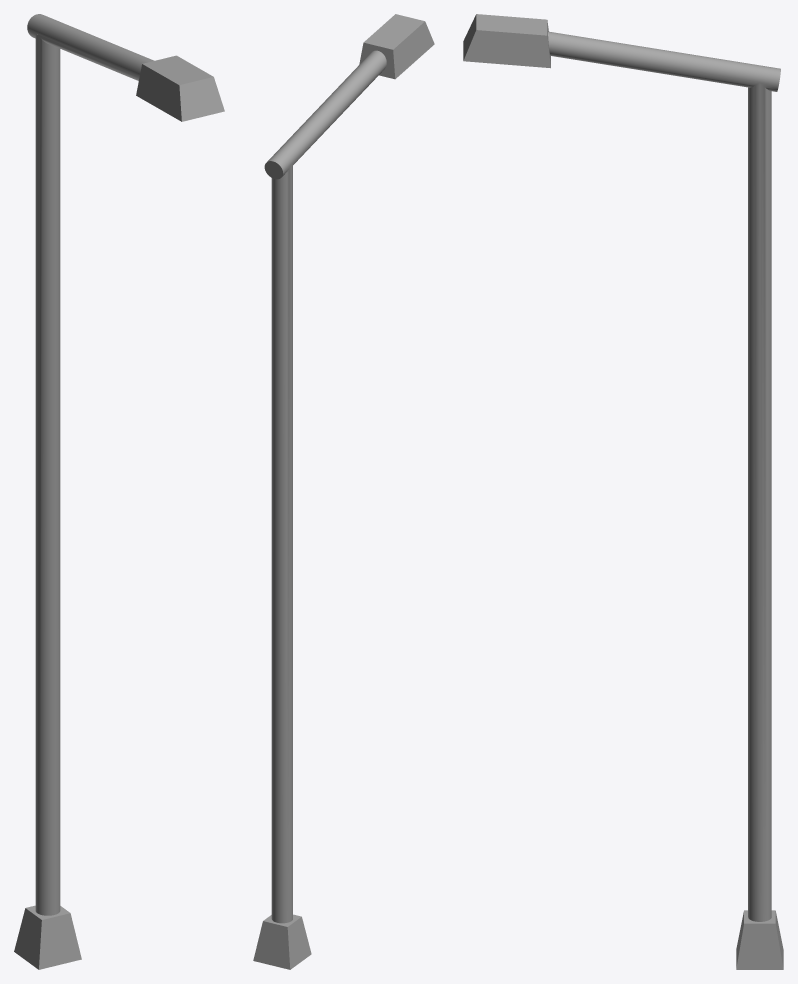
Rendered from StreetLight.fbx.
3 renders of one model, left to right at view 1: azimuth 30°, elevation 25°; view 2: azimuth 150°, elevation 25°; view 3: azimuth 270°, elevation 25°, orthographic. The views are drawn at different scales.
Parts seen in each view (by area): view 1: StreetLight; view 2: StreetLight; view 3: StreetLight.
Part boxes in pixels (x1,y1,x2,y2): StreetLight: [14, 14, 224, 969]; StreetLight: [253, 14, 434, 969]; StreetLight: [463, 14, 783, 969].
Size of what is drawn, in the model's own units: 40 by 872 by 270.
